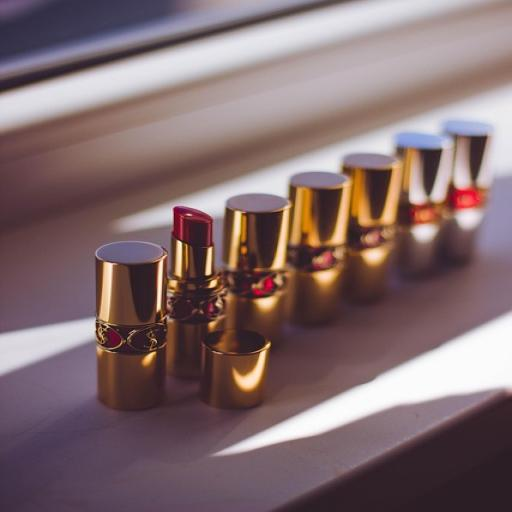lipstick: (96, 241, 166, 409), (167, 206, 226, 378), (224, 194, 290, 343), (288, 172, 351, 324), (343, 154, 401, 301), (396, 132, 453, 275), (442, 120, 492, 262)
